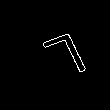L_SE: (40, 30, 95, 89)
